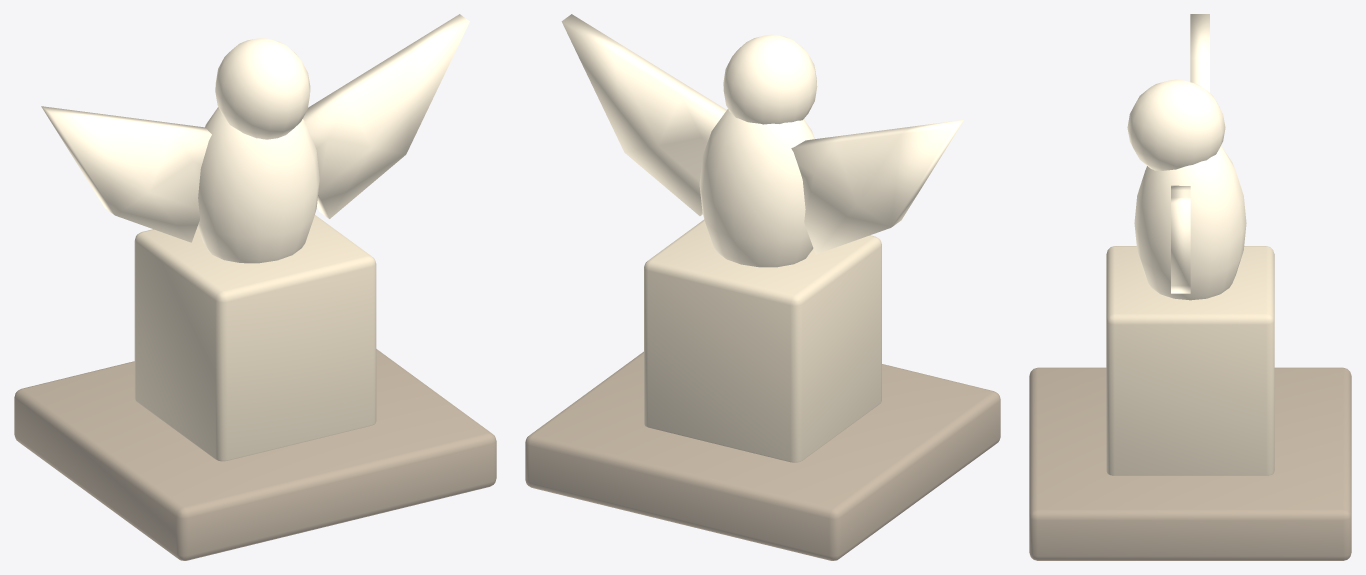
File: castle_detail_memorial_purified.glb
The picture shows the model from 3 angles, left to right: view 1: azimuth 30°, elevation 25°; view 2: azimuth 150°, elevation 25°; view 3: azimuth 270°, elevation 25°; orthographic projection. The views are drawn at different scales.
Parts seen in each view (by area): view 1: castle_detail_memorial_purified_surface; view 2: castle_detail_memorial_purified_surface; view 3: castle_detail_memorial_purified_surface.
Boxes of the visible parts, x1=… form: castle_detail_memorial_purified_surface: x1=14, y1=14, x2=496, y2=560; castle_detail_memorial_purified_surface: x1=525, y1=14, x2=1000, y2=560; castle_detail_memorial_purified_surface: x1=1029, y1=14, x2=1351, y2=560.
Bounding box in the file's own units: 3.2 × 3.2 × 2.3.
